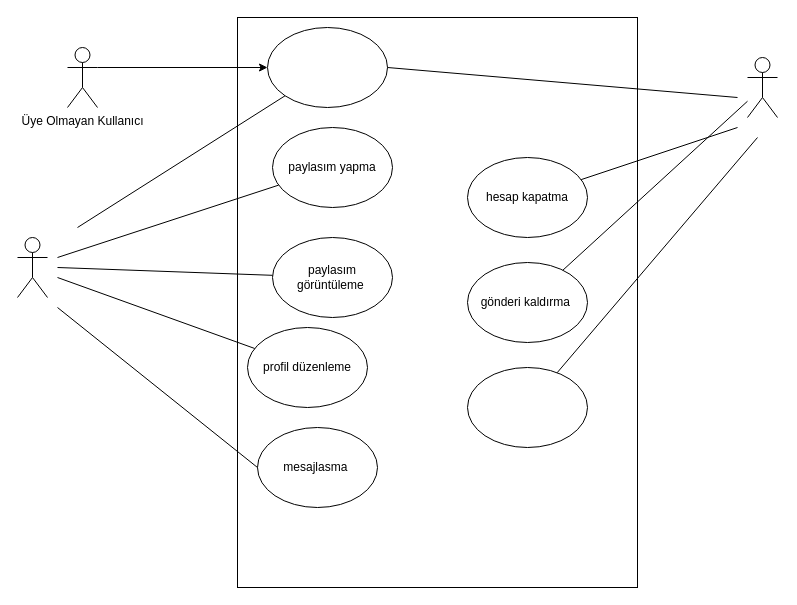
The diagram is 797 pixels wide and 605 high, and some of its shapes have lost their labels. Each missing label, with the centre of its shape:
Admin: point (762, 87)
ceza: point (527, 407)
giris/kayıt: point (327, 67)
ÜYE: point (32, 267)
